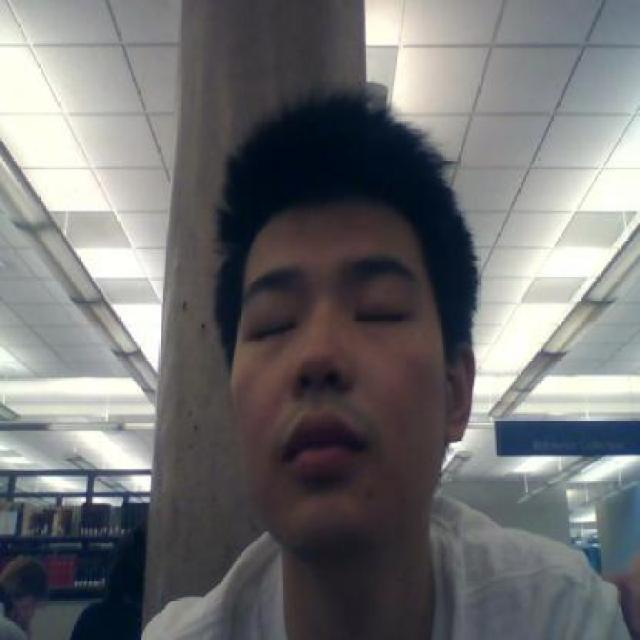sleepy: (230, 251, 432, 544)
